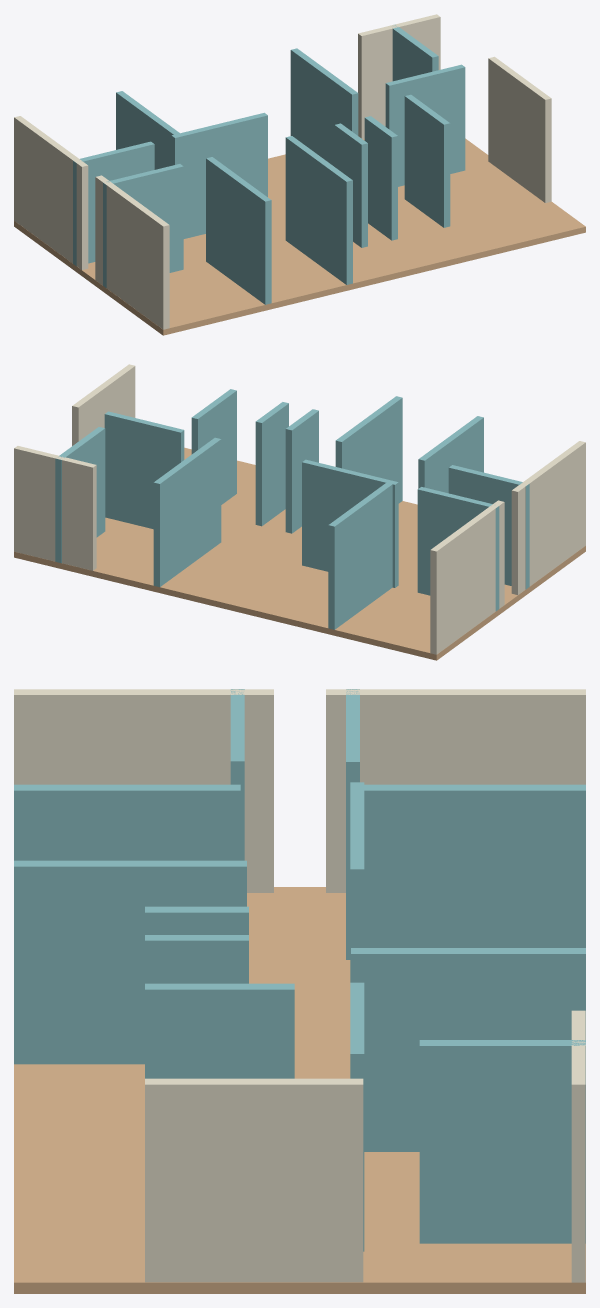
The model's file is 1790489485773-2d-building-1790491477410.glb.
3 views of the same model, one above another, from view 1: azimuth 30°, elevation 25°; view 2: azimuth 150°, elevation 25°; view 3: azimuth 270°, elevation 25° (orthographic). The views are drawn at different scales.
Visible parts, largest first — view 1: Floor plan building shell; view 2: Floor plan building shell; view 3: Floor plan building shell.
Boxes of the visible parts, x1=… form: Floor plan building shell: x1=14, y1=14, x2=585, y2=335; Floor plan building shell: x1=14, y1=364, x2=585, y2=660; Floor plan building shell: x1=14, y1=689, x2=585, y2=1293.
Bounding box in the file's own units: 12 × 2.96 × 7.33.
